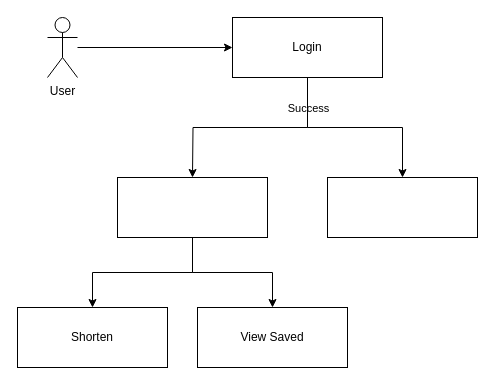
The diagram is 495 pixels wide and 385 high, and some of its shapes have lost their labels. Here are the shapes that lost their labels. From the top down, the centre of each, then its label:
pixel 192 207: Urlshortener
pixel 402 207: Dcoumentation
